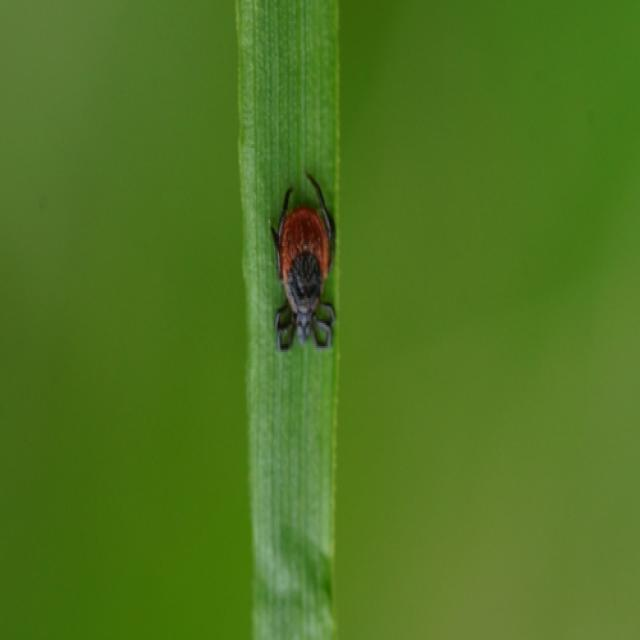Ixodes Ricinus-F: (273, 173, 337, 350)
